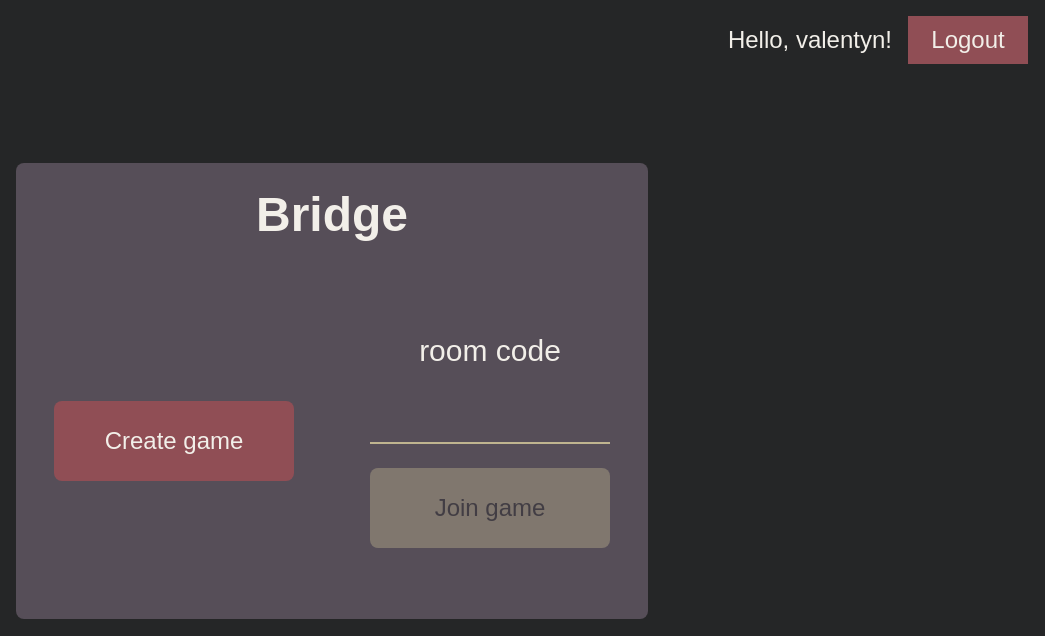
Test: MenuScreen › Button Join Game should be enabled if playerName & roomCode inputs are not empty
The width and height of the screenshot is (1045, 636).
Type "a1b2c" into the field labelled "room code" at (490, 418), box [370,392,610,444]
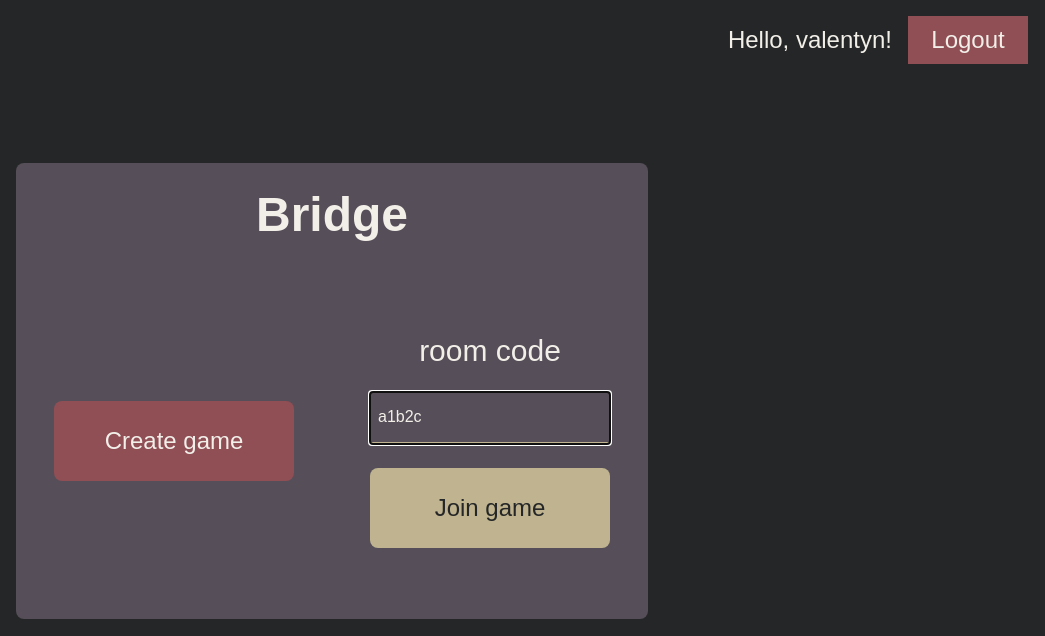
Now the button "Join game" is enabled, box [370,468,610,548]
